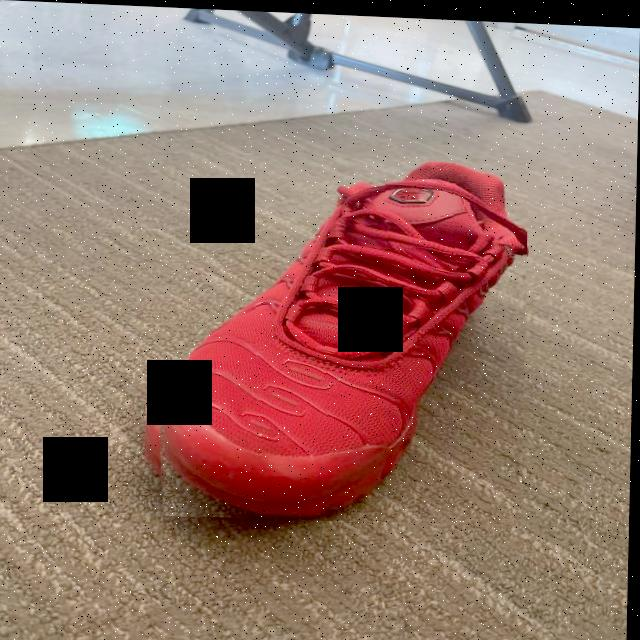shoe: (141, 148, 530, 527)
